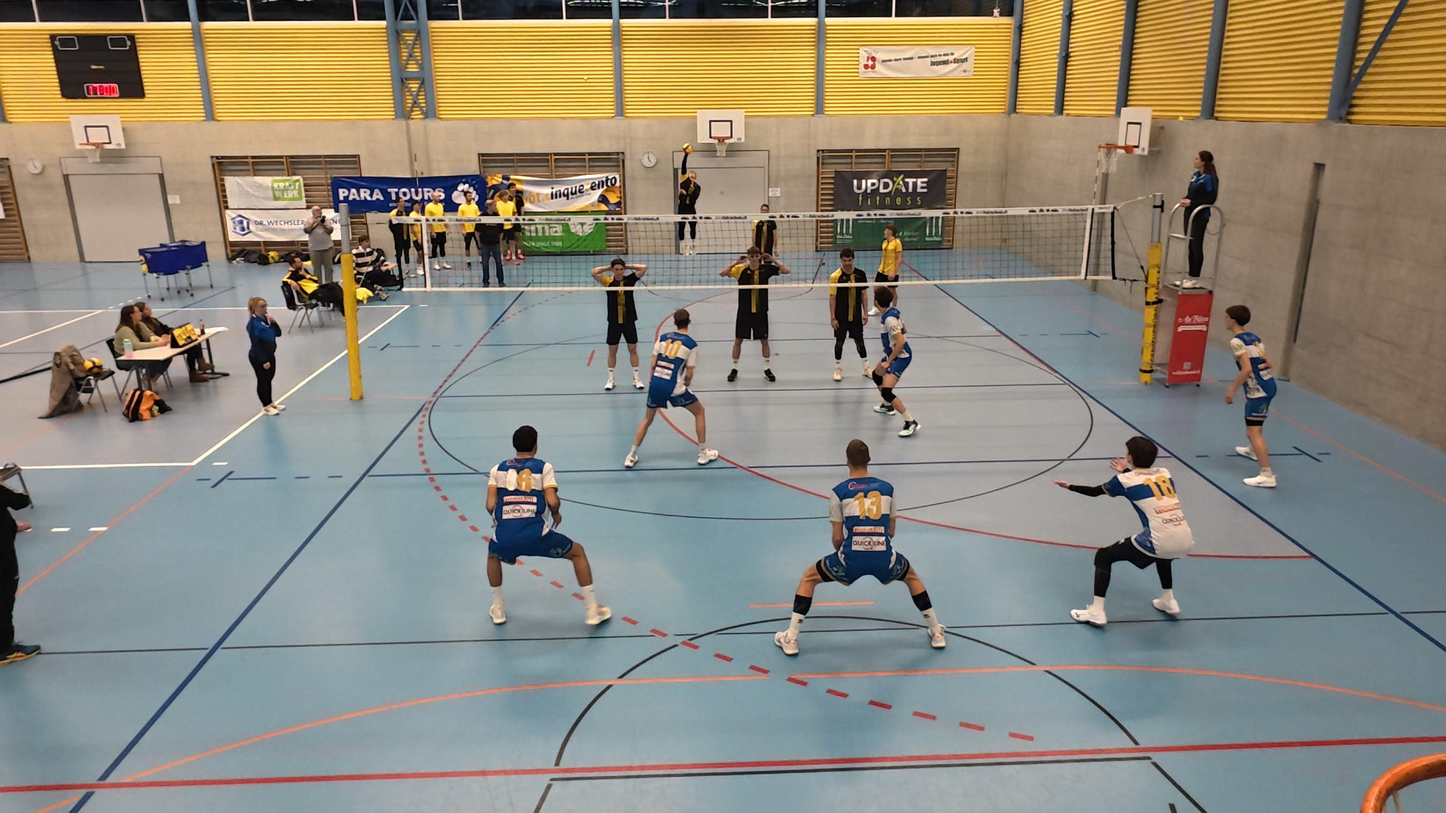battuta: (671, 153, 704, 266)
